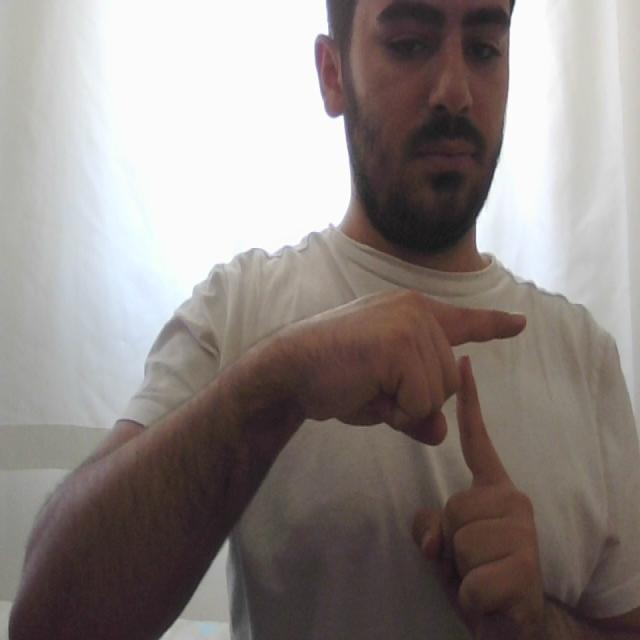Tesekkurler: (420, 282, 535, 501)
